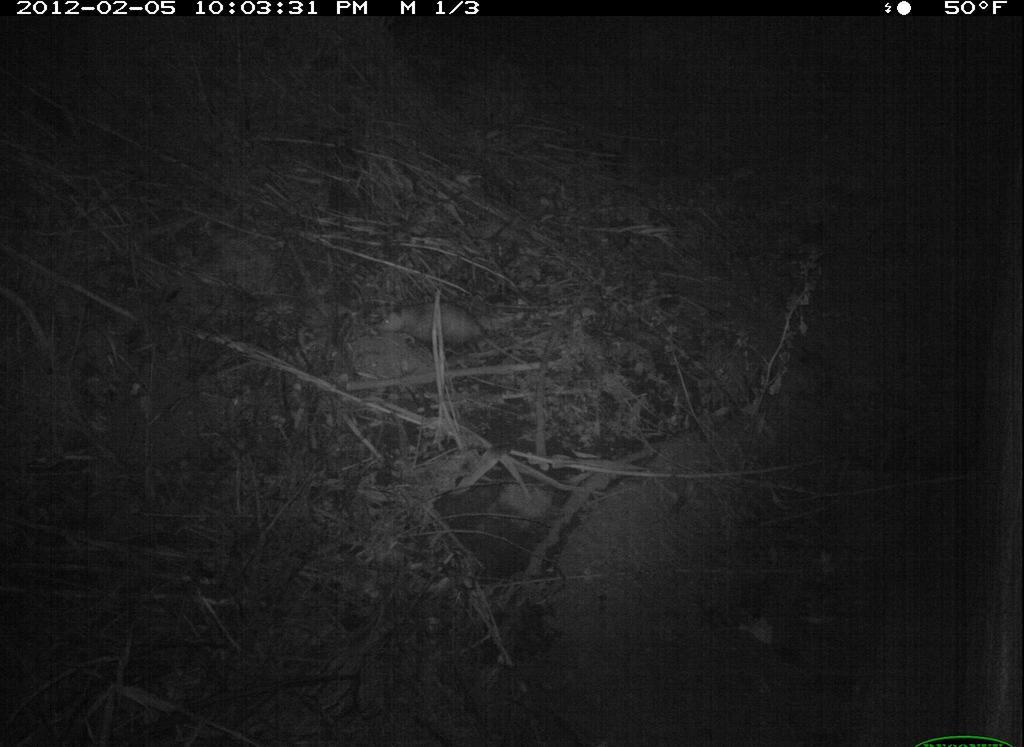opossum: (377, 296, 527, 368)
